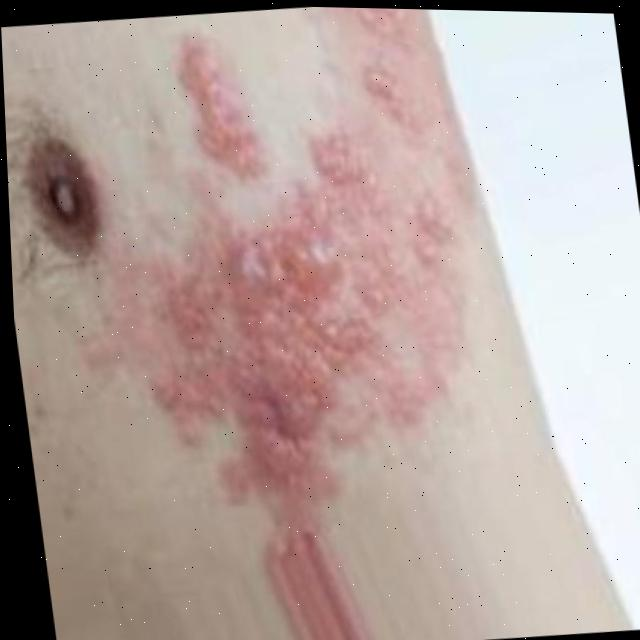Shingles: (106, 2, 491, 514)
